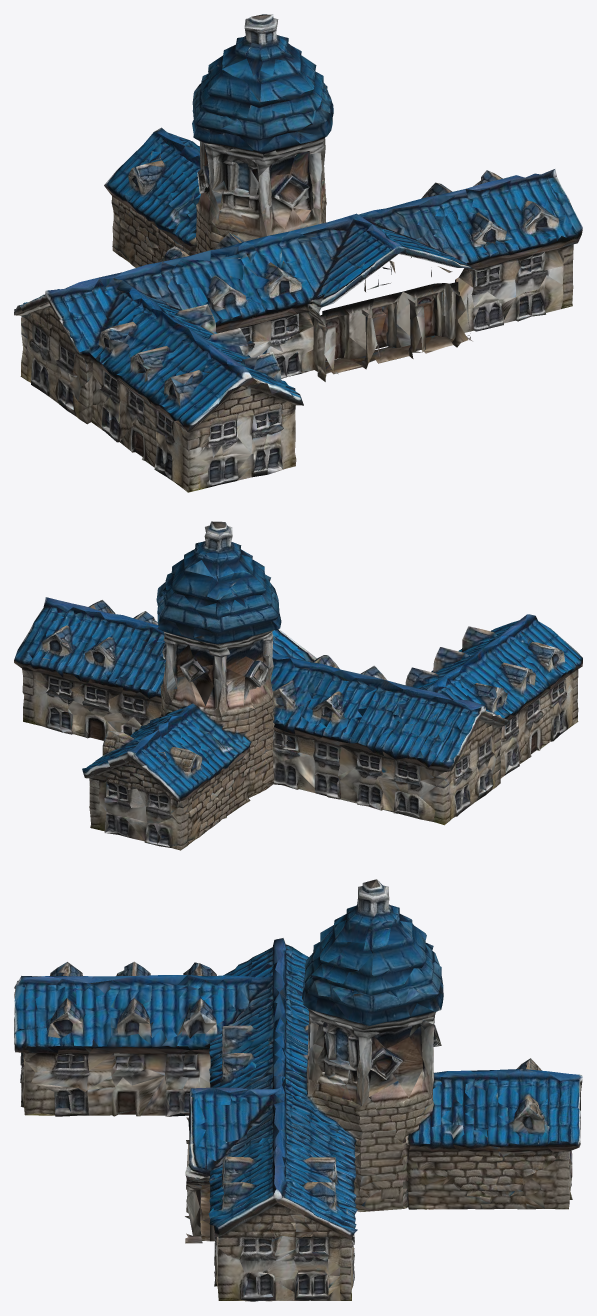
The model's file is biblioteca.glb.
3 renders of one model, top to bottom at view 1: azimuth 30°, elevation 25°; view 2: azimuth 150°, elevation 25°; view 3: azimuth 270°, elevation 25°, orthographic. The views are drawn at different scales.
Bounding box in the file's own units: 2.64 × 1.45 × 2.51.
1 material, 1 textured.
